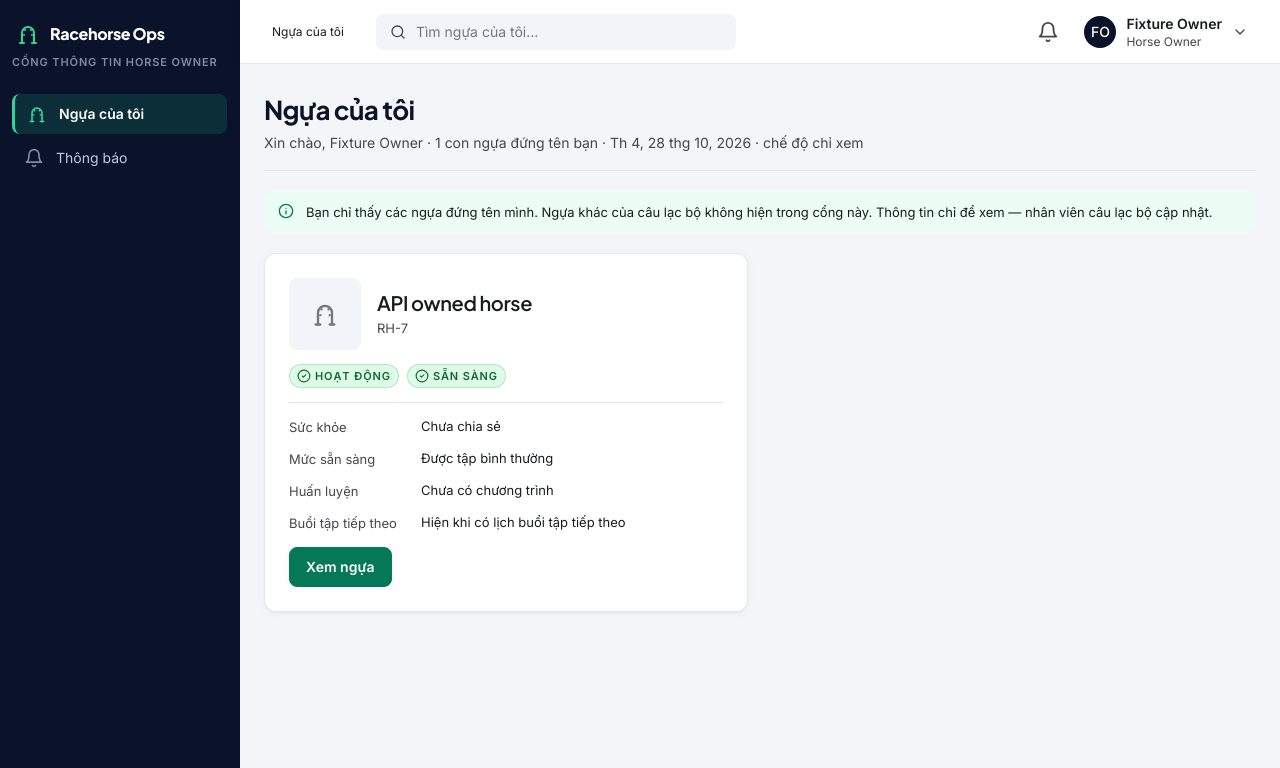
Scenario: CORE-056 actual application HTTP route mounting › mounts the canonical list from an array and navigates to all read-only tabs through the real provider
This screenshot has width=1280, height=768.
Expected: the heading "API owned horse" is shown, [377,291,532,315]
Click the link "Xem ngựa".
click(340, 567)  # box [289,547,392,587]
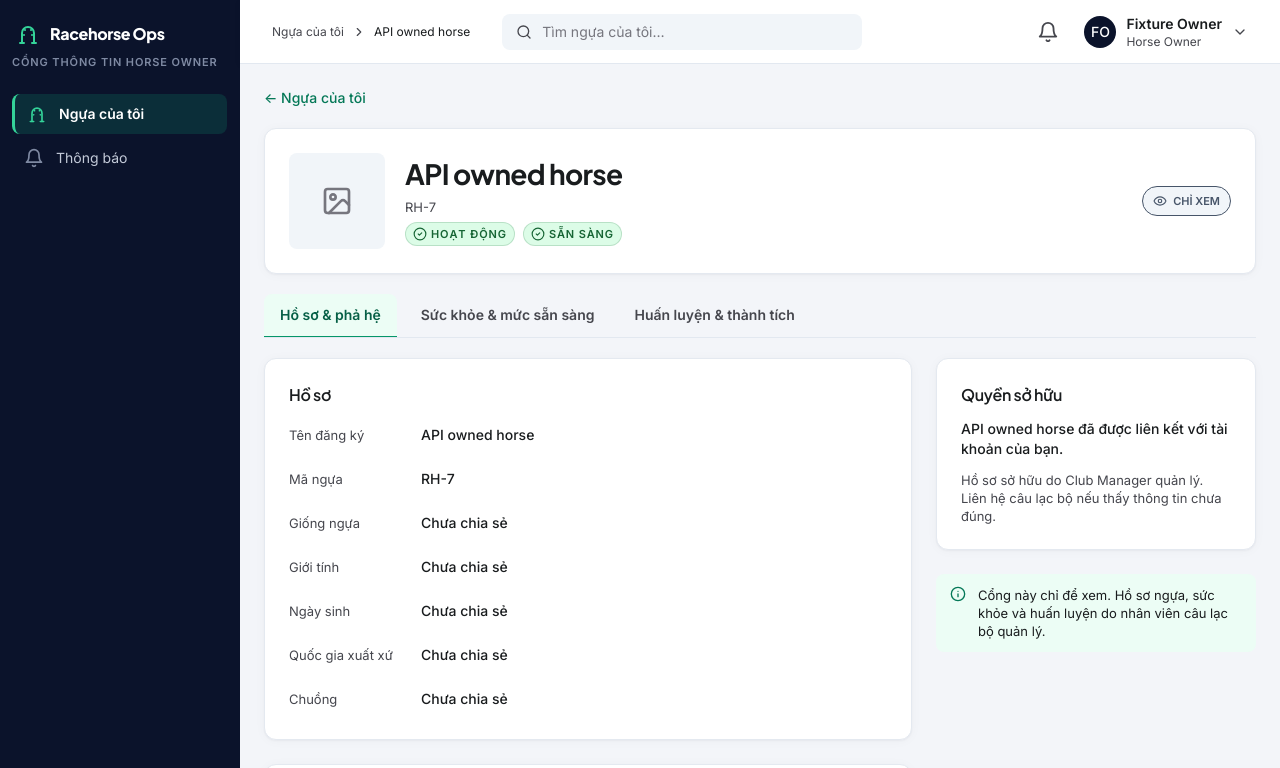
Expected: the heading "Hồ sơ" is shown, [289,384,331,405]
Click the tab "Sức khỏe & mức sẵn sàng".
click(508, 316)  # box [405,294,610,338]
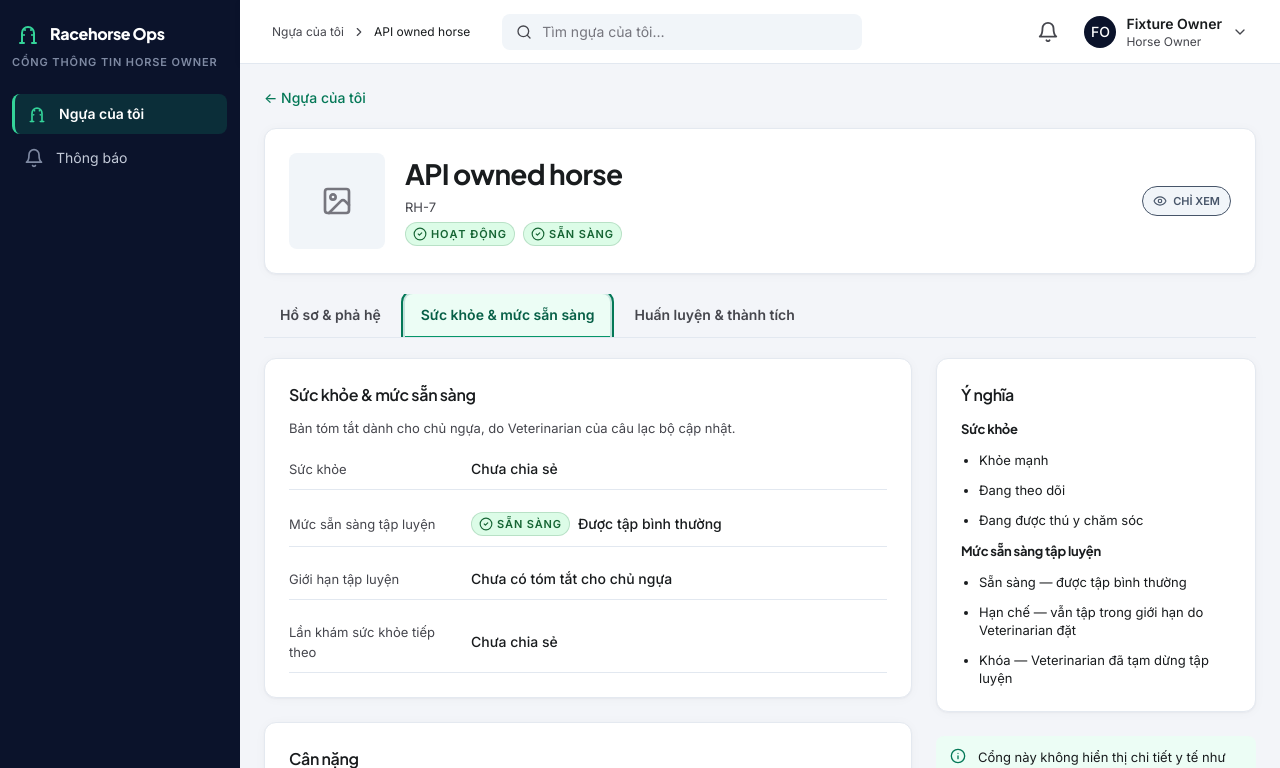
Expected: the text "Bản tóm tắt dành cho chủ ngựa, do Veterinarian của câu lạc bộ cập nhật." is shown, [289,420,736,436]
Click the tab "Huấn luyện & thành tích".
click(715, 316)  # box [618,294,811,338]
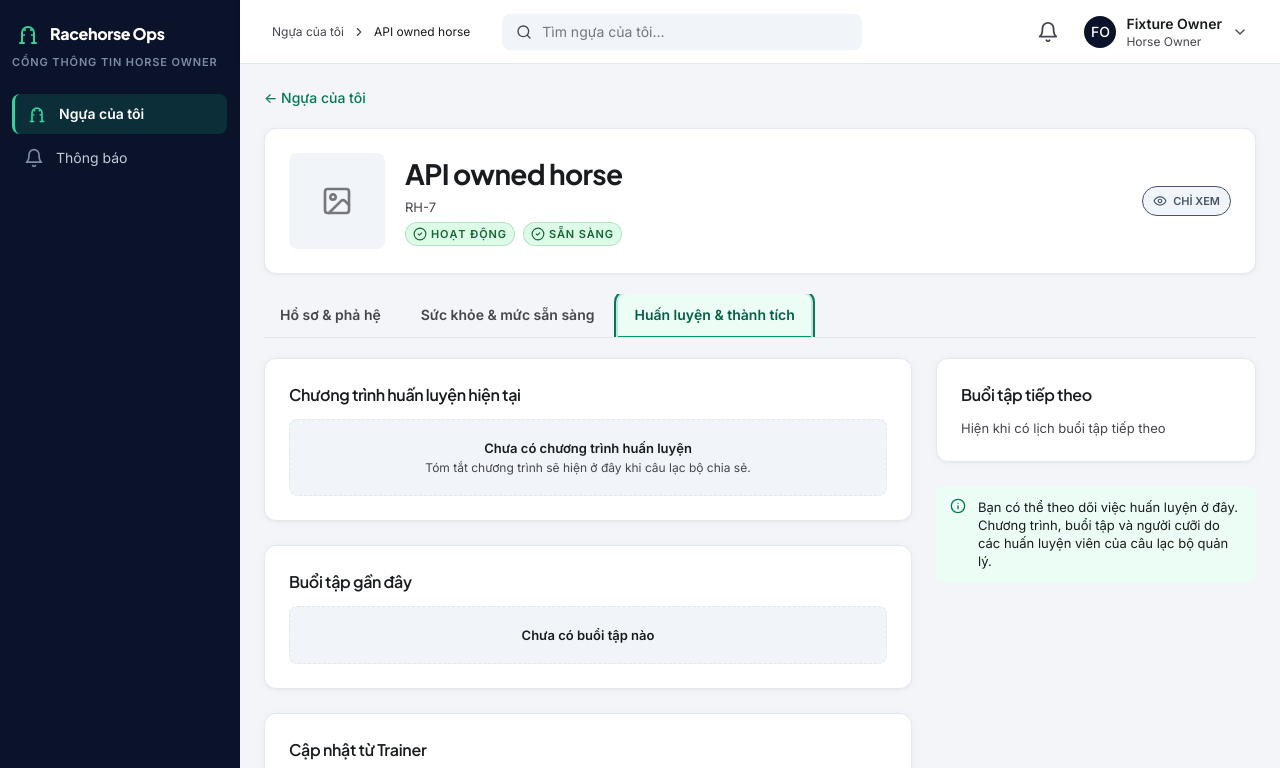
Expected: the heading "Buổi tập gần đây" is shown, [289,571,412,592]
